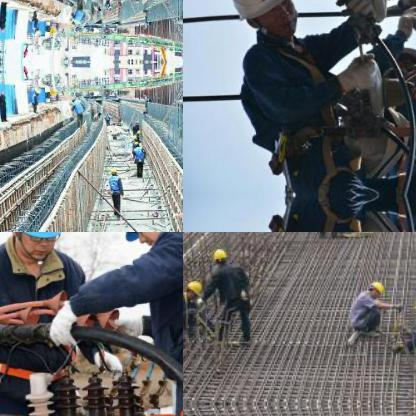Helmet: (230, 0, 302, 34), (5, 232, 67, 264), (183, 275, 202, 299), (365, 276, 383, 298), (210, 246, 228, 264), (411, 294, 415, 313), (109, 164, 117, 172)
